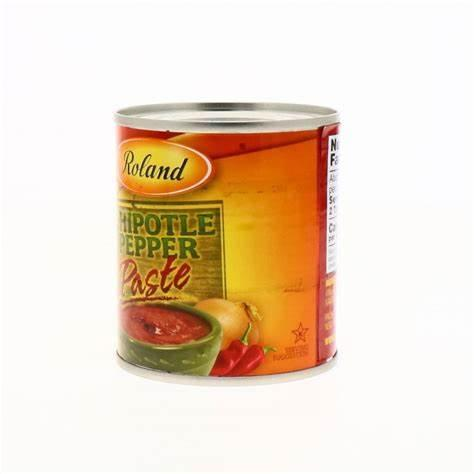metal: (115, 102, 339, 378)
